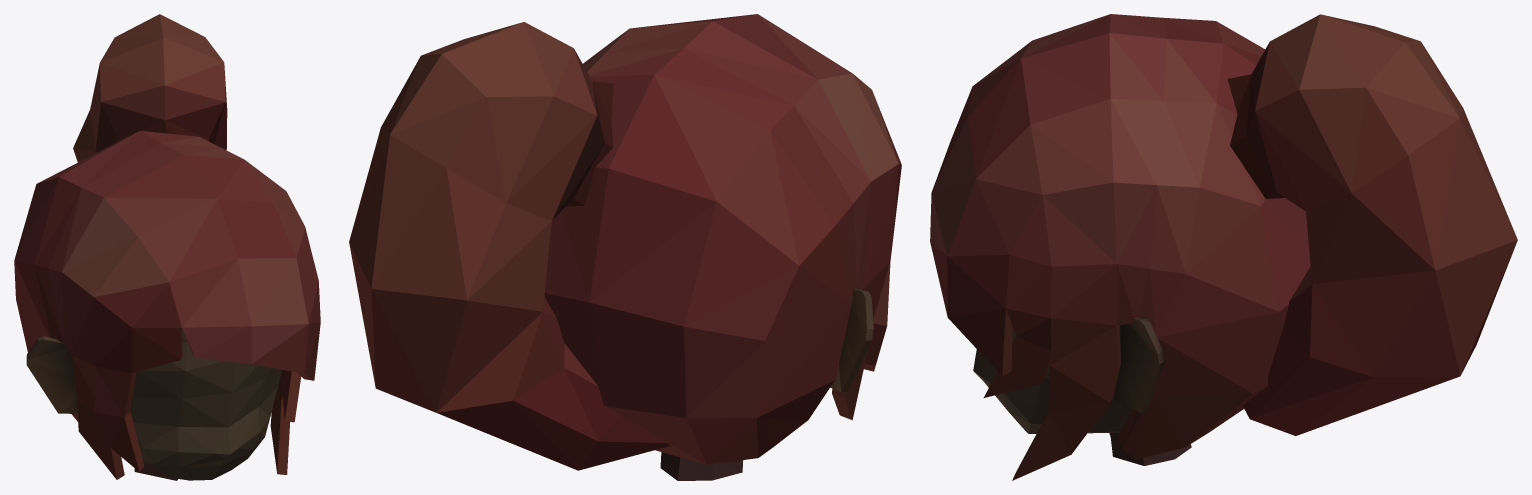
Rendered from helm_darkskin_ponytail_red.fbx.
3 renders of one model, left to right at view 1: azimuth 30°, elevation 25°; view 2: azimuth 150°, elevation 25°; view 3: azimuth 270°, elevation 25°, orthographic. The views are drawn at different scales.
Parts seen in each view (by area): view 1: helm_darkskin_ponytail_red; view 2: helm_darkskin_ponytail_red; view 3: helm_darkskin_ponytail_red.
Part boxes in pixels (x1=…): helm_darkskin_ponytail_red: x1=14, y1=14, x2=320, y2=480; helm_darkskin_ponytail_red: x1=349, y1=14, x2=901, y2=480; helm_darkskin_ponytail_red: x1=930, y1=14, x2=1517, y2=480.
Bounding box in the file's own units: 1.21 × 1.49 × 1.64.
